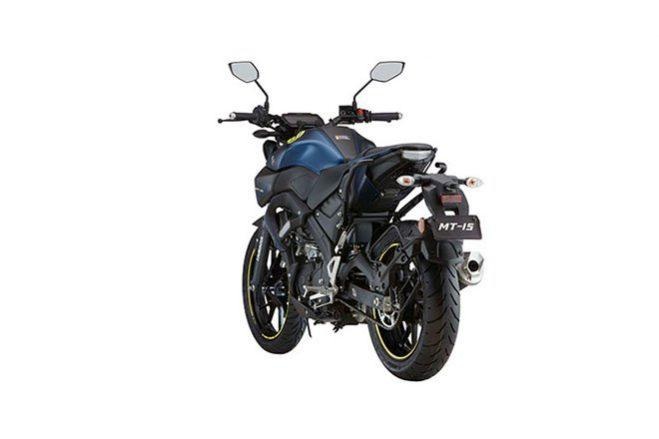motorbike: (217, 60, 484, 381)
